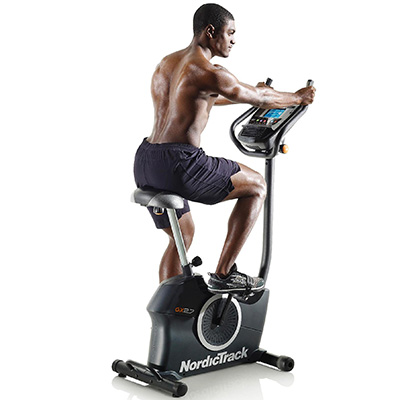gym_bike: (95, 67, 308, 392)
